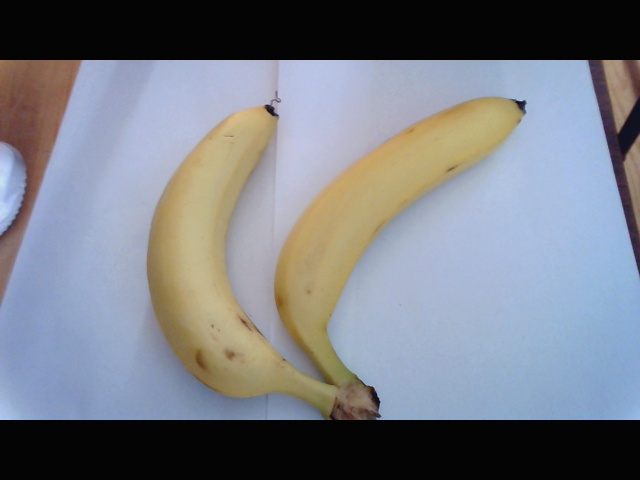banana: (285, 90, 518, 414), (135, 95, 278, 402)
